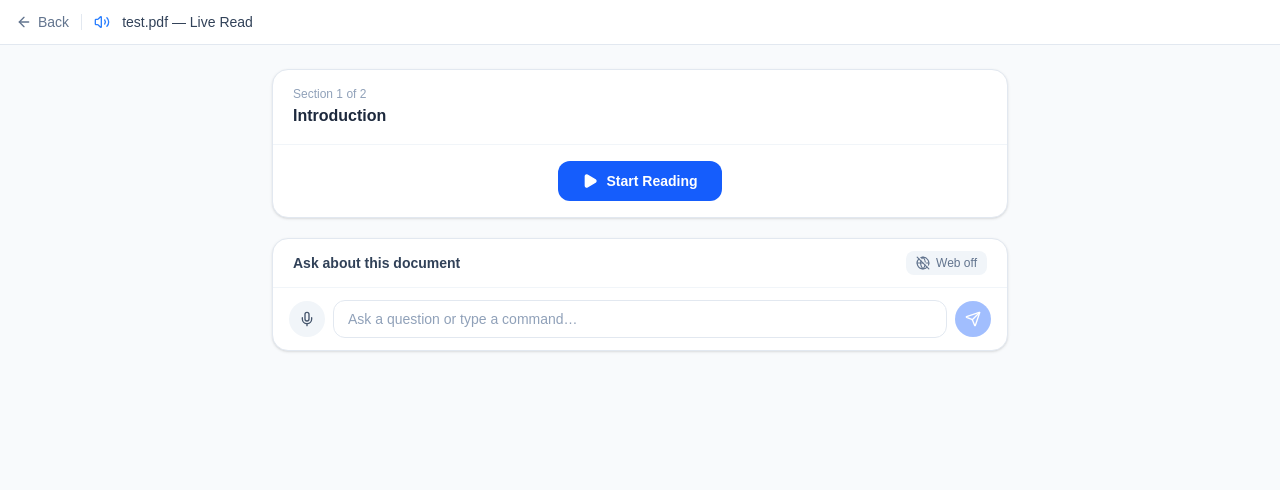
LiveReader — chat panel › pressing Enter submits the message
The width and height of the screenshot is (1280, 490).
Type "Enter test" into the field with placeholder "Ask a question or type a command…". click: (640, 319)
box: [333, 300, 947, 338]
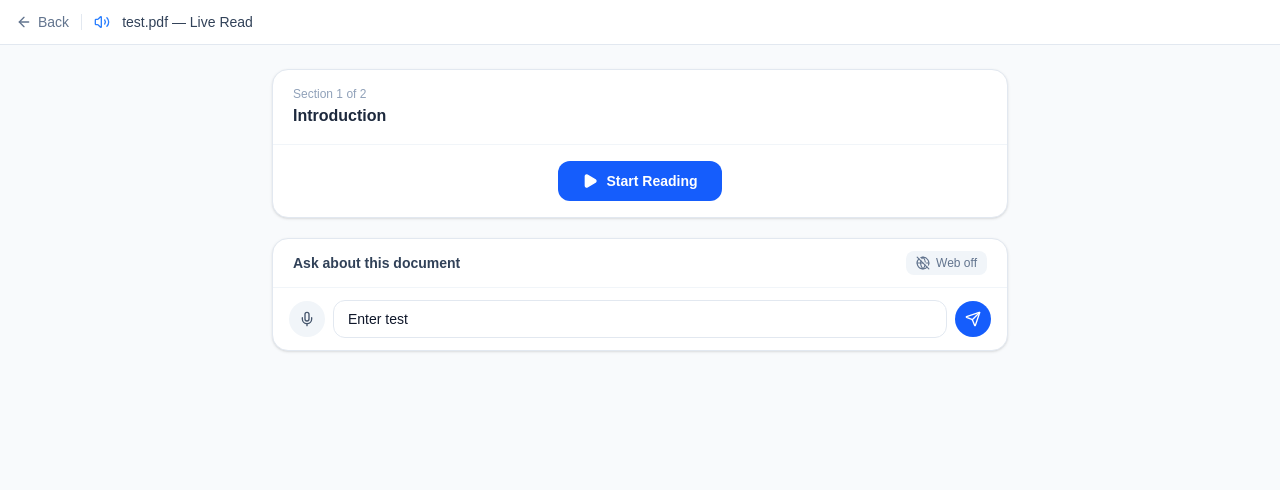
Press Enter in the field with placeholder "Ask a question or type a command…", box [333, 300, 947, 338]
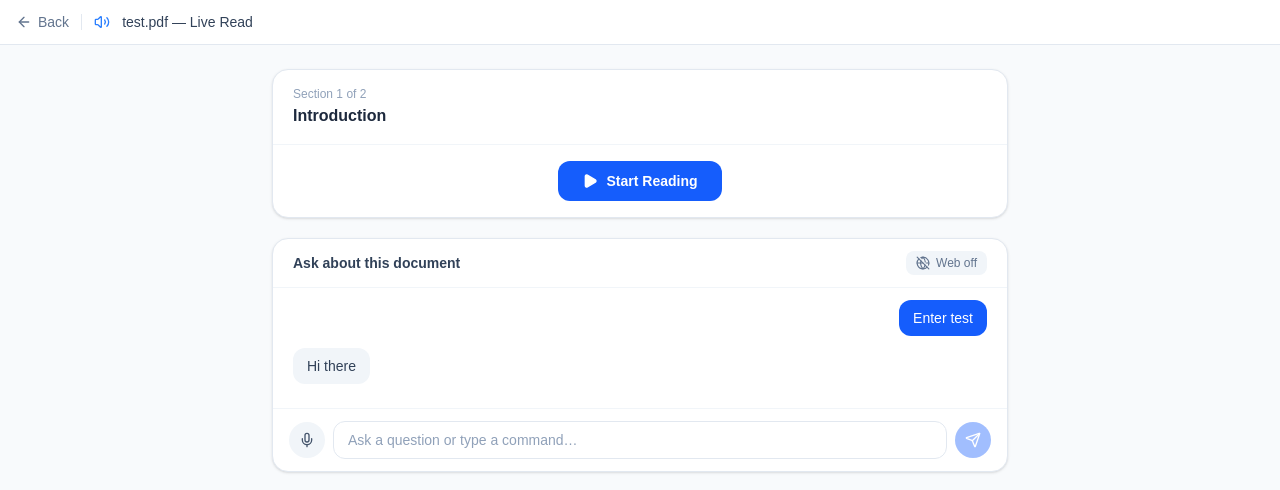
expect the text "Enter test" is shown: met, box [899, 300, 987, 336]
